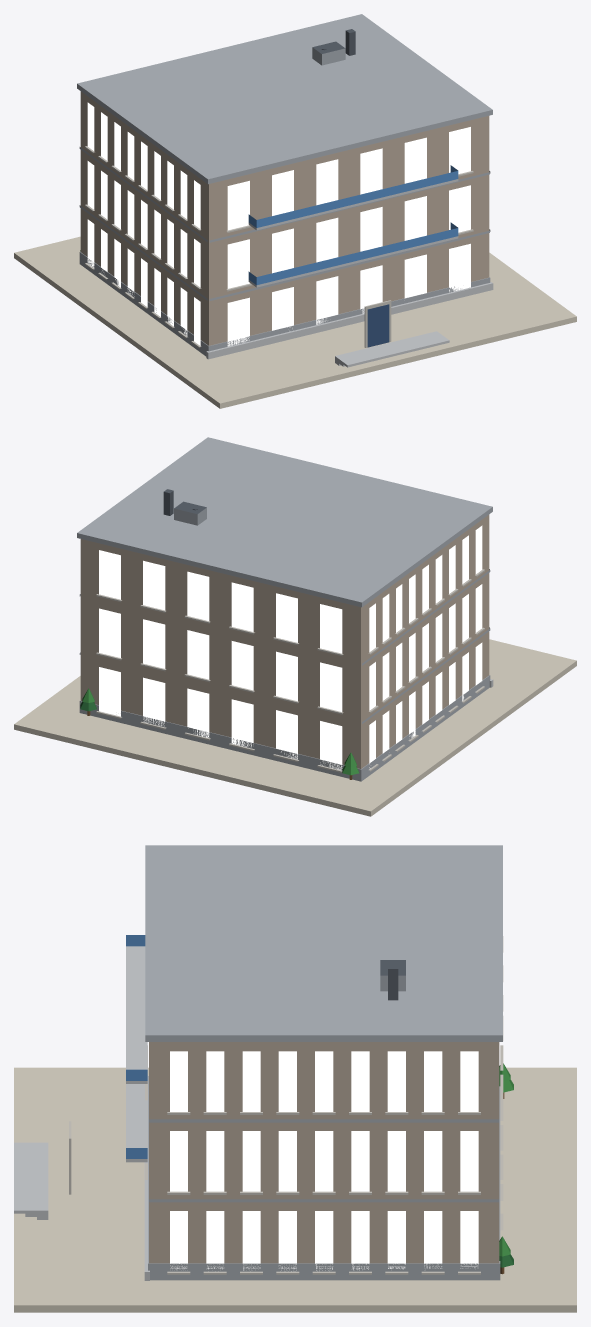
3 renders of one model, top to bottom at view 1: azimuth 30°, elevation 25°; view 2: azimuth 150°, elevation 25°; view 3: azimuth 270°, elevation 25°, orthographic. The views are drawn at different scales.
Parts seen in each view (by area): view 1: b08_x2; view 2: b08_x2; view 3: b08_x2.
Boxes of the visible parts, left/top/right/bottom form: b08_x2: left=14, top=14, right=576, bottom=408; b08_x2: left=14, top=437, right=576, bottom=816; b08_x2: left=14, top=845, right=576, bottom=1312.
Bounding box in the file's own units: 1.96 × 1.11 × 1.96.
